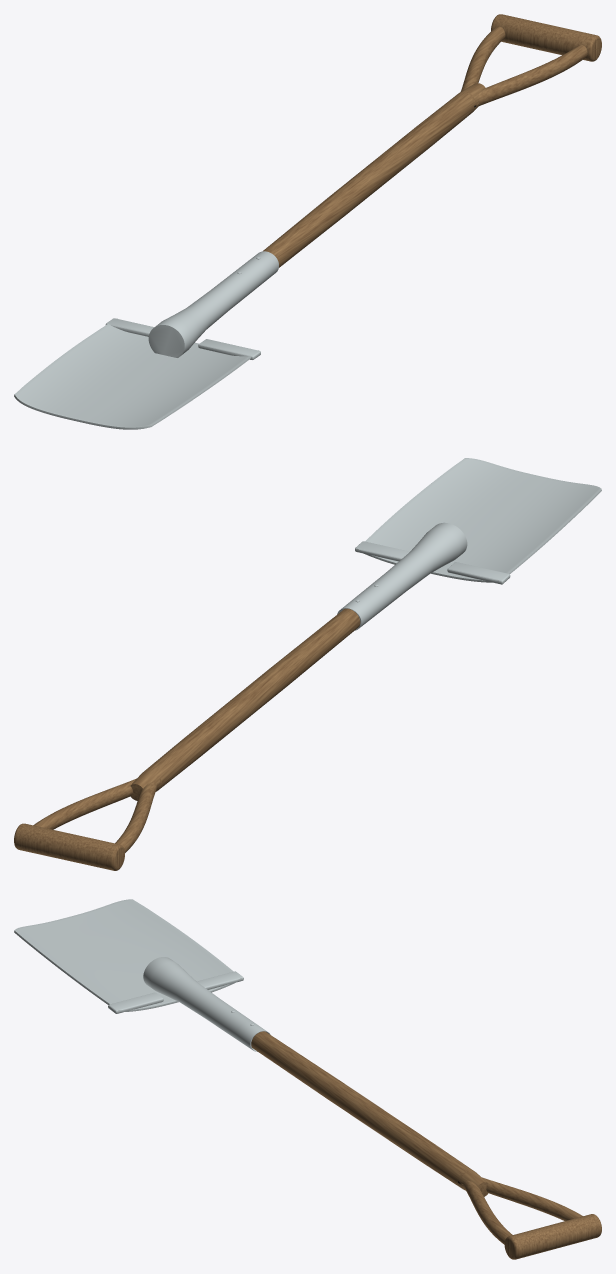
File: STATE-LOOSE-JOINT.glb
3 views of the same model, one above another, from view 1: azimuth 30°, elevation 25°; view 2: azimuth 210°, elevation 25°; view 3: azimuth 270°, elevation 25° (orthographic). The views are drawn at different scales.
Visible parts, largest first — view 1: Steel body | blade neck socket continuous, Hardwood shaft and split wishbone, Hardwood crossbar grip; view 2: Steel body | blade neck socket continuous, Hardwood shaft and split wishbone, Hardwood crossbar grip; view 3: Steel body | blade neck socket continuous, Hardwood shaft and split wishbone, Hardwood crossbar grip.
Boxes of the visible parts, x1,y1,x2,y2 form: Steel body | blade neck socket continuous: (14, 251, 278, 429); Hardwood shaft and split wishbone: (263, 26, 587, 267); Hardwood crossbar grip: (491, 14, 601, 61); Steel body | blade neck socket continuous: (337, 458, 601, 630); Hardwood shaft and split wishbone: (33, 608, 360, 852); Hardwood crossbar grip: (14, 823, 124, 870); Steel body | blade neck socket continuous: (14, 899, 270, 1051); Hardwood shaft and split wishbone: (251, 1031, 582, 1244); Hardwood crossbar grip: (504, 1214, 601, 1259).
Size of the model in its own units: 1.13 by 0.0456 by 0.7962.
Materials: 5 (2 with a texture image).
